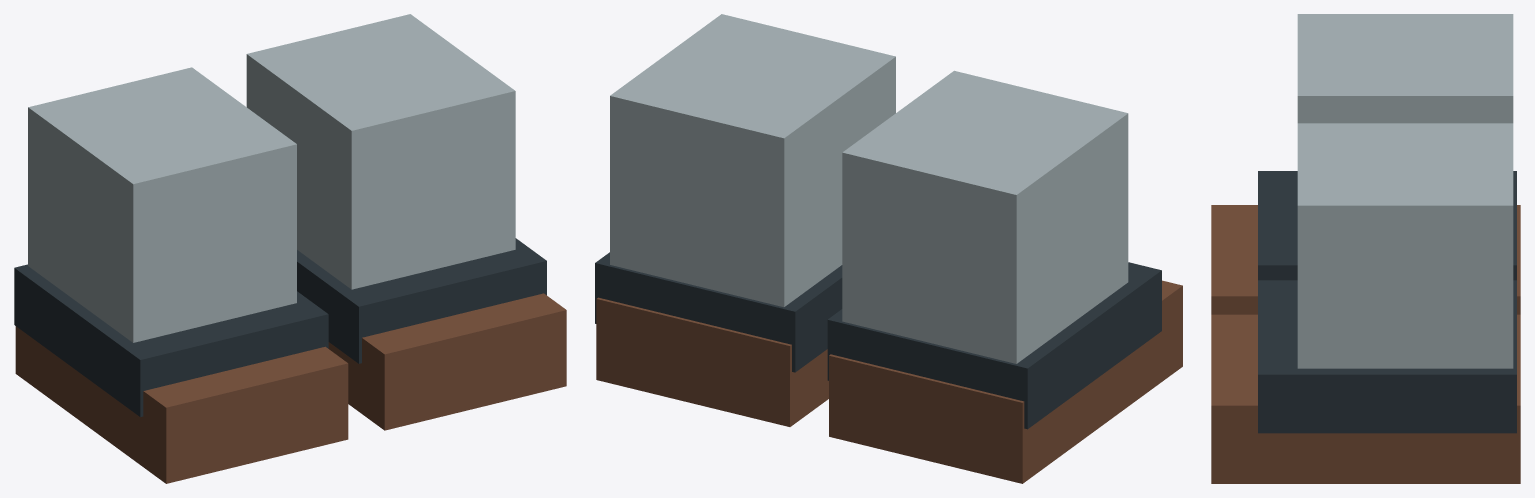
Rendered from fixed-boots-lod2.glb.
3 renders of one model, left to right at view 1: azimuth 30°, elevation 25°; view 2: azimuth 150°, elevation 25°; view 3: azimuth 270°, elevation 25°, orthographic. The views are drawn at different scales.
Parts seen in each view (by area): view 1: piece_shinR, piece_shinL; view 2: piece_shinR, piece_shinL; view 3: piece_shinL, piece_shinR.
Boxes of the visible parts, box(x1,y1,x2,y2) form: piece_shinR: box(14, 67, 348, 483); piece_shinL: box(246, 14, 566, 430); piece_shinR: box(827, 70, 1182, 483); piece_shinL: box(595, 14, 895, 426); piece_shinL: box(1211, 123, 1520, 483); piece_shinR: box(1211, 14, 1520, 314).
Bounding box in the file's own units: 0.67 × 0.42 × 0.43.
